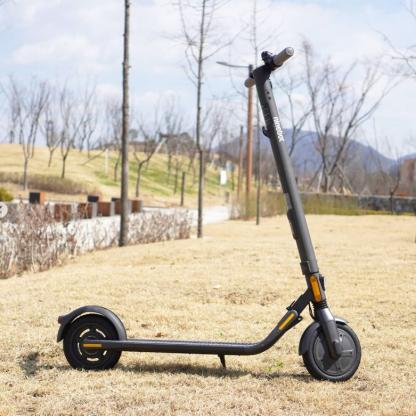kickboard: (57, 51, 363, 383)
